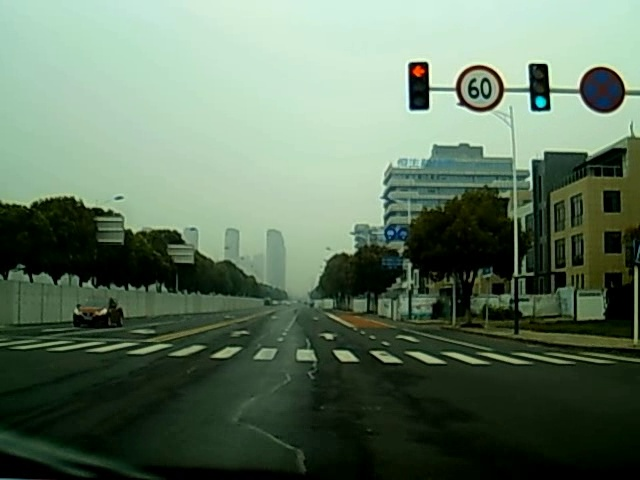Traffic_Light_go: (530, 68, 548, 110)
Traffic_Light_stop: (408, 63, 426, 108)
